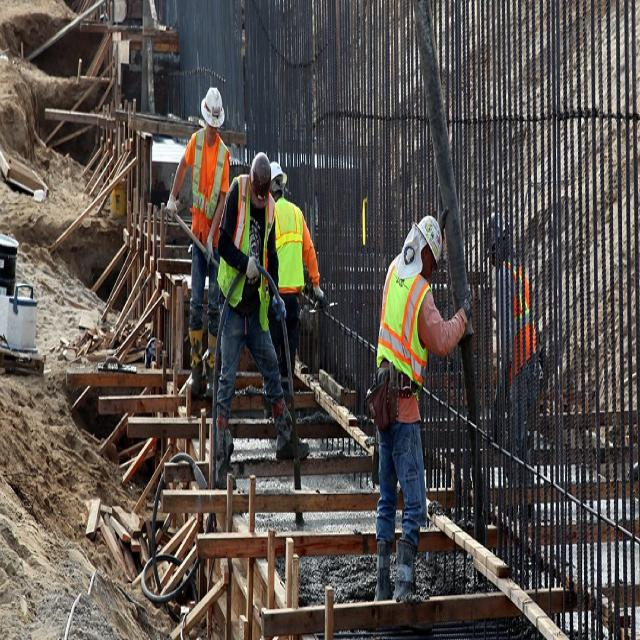body: (365, 182, 474, 603), (208, 146, 312, 495), (164, 80, 243, 407), (262, 159, 329, 418), (484, 213, 538, 497)
